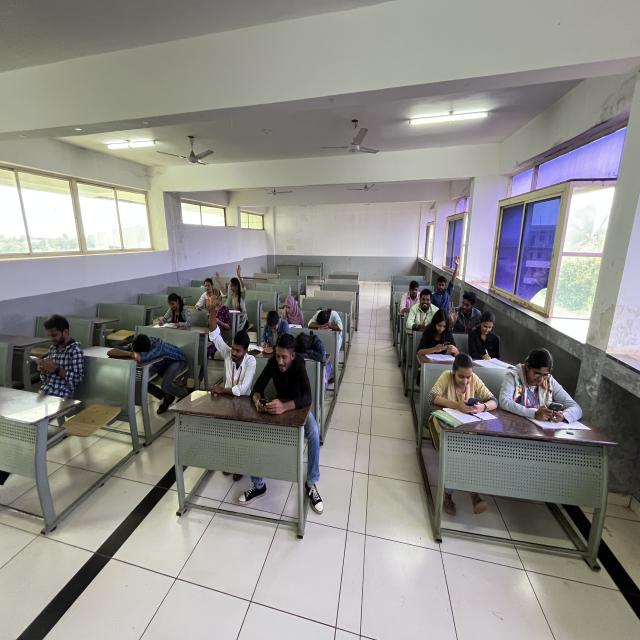Hand Rising: (204, 283, 260, 404), (228, 260, 252, 324), (434, 253, 463, 304)
Reading: (277, 294, 307, 328)
Sleeping: (106, 327, 193, 385), (289, 327, 334, 370), (305, 302, 349, 342)
Using Phone: (497, 340, 587, 429), (424, 348, 502, 422), (253, 332, 310, 414), (419, 307, 462, 355)
Writing: (468, 311, 507, 365), (255, 311, 288, 354)
